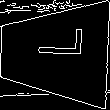L_W: (27, 37, 82, 70)
